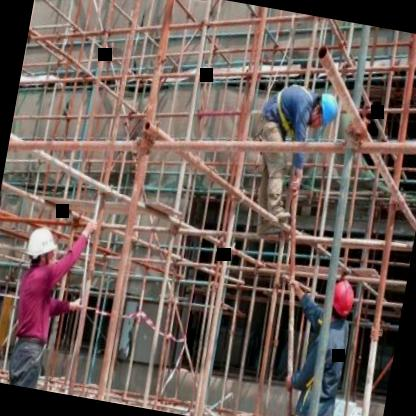helmet: (20, 223, 61, 278), (301, 88, 344, 132), (328, 276, 357, 320)
